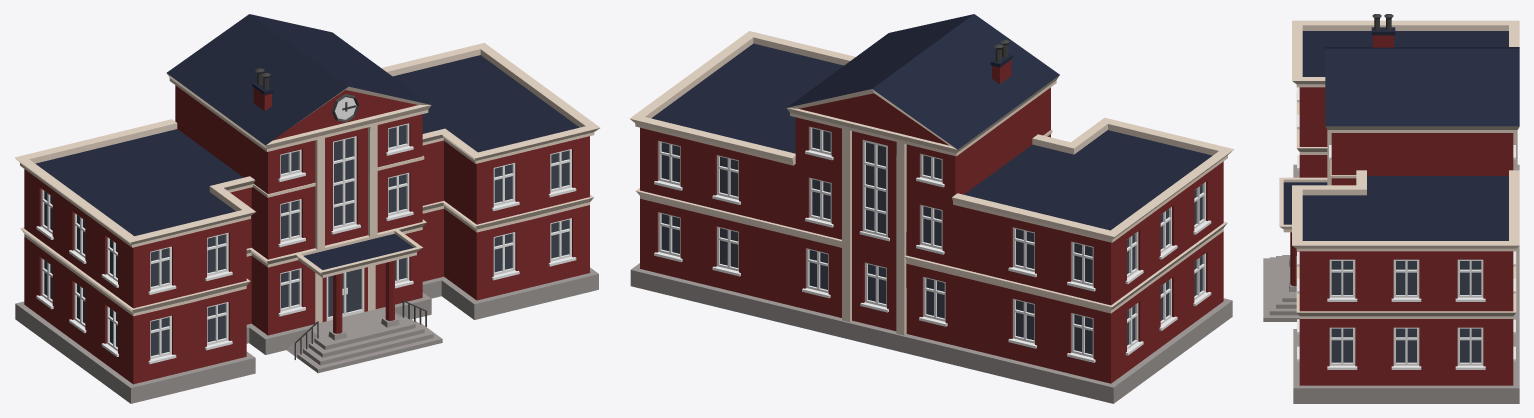
File: building-school.fbx
3 renders of one model, left to right at view 1: azimuth 30°, elevation 25°; view 2: azimuth 150°, elevation 25°; view 3: azimuth 270°, elevation 25°, orthographic. The views are drawn at different scales.
Parts seen in each view (by area): view 1: building-school; view 2: building-school; view 3: building-school.
Part boxes in pixels (left/top/right/bottom): building-school: left=14, top=14, right=600, bottom=403; building-school: left=629, top=14, right=1233, bottom=403; building-school: left=1263, top=14, right=1519, bottom=403.
Bounding box in the file's own units: 24.9 × 12.97 × 12.01.
